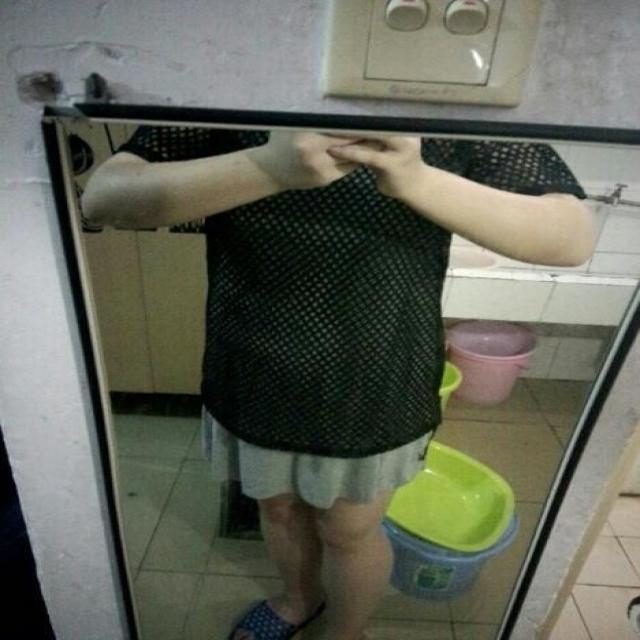short sleeve dress: (114, 122, 591, 453)
skirt: (208, 372, 443, 495)
